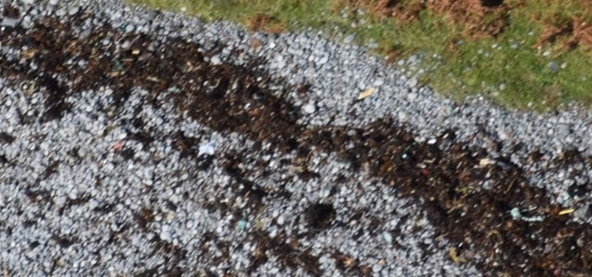white_in_green: (182, 123, 232, 173), (342, 69, 389, 117), (494, 189, 541, 236), (464, 137, 511, 183)
